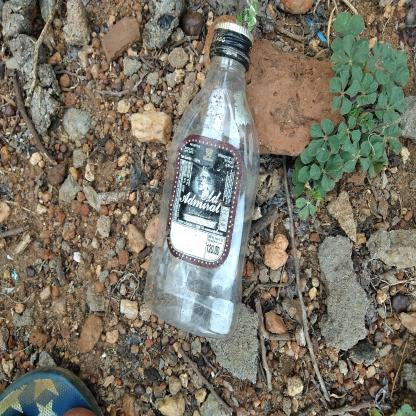bottle: (59, 187, 300, 351)
